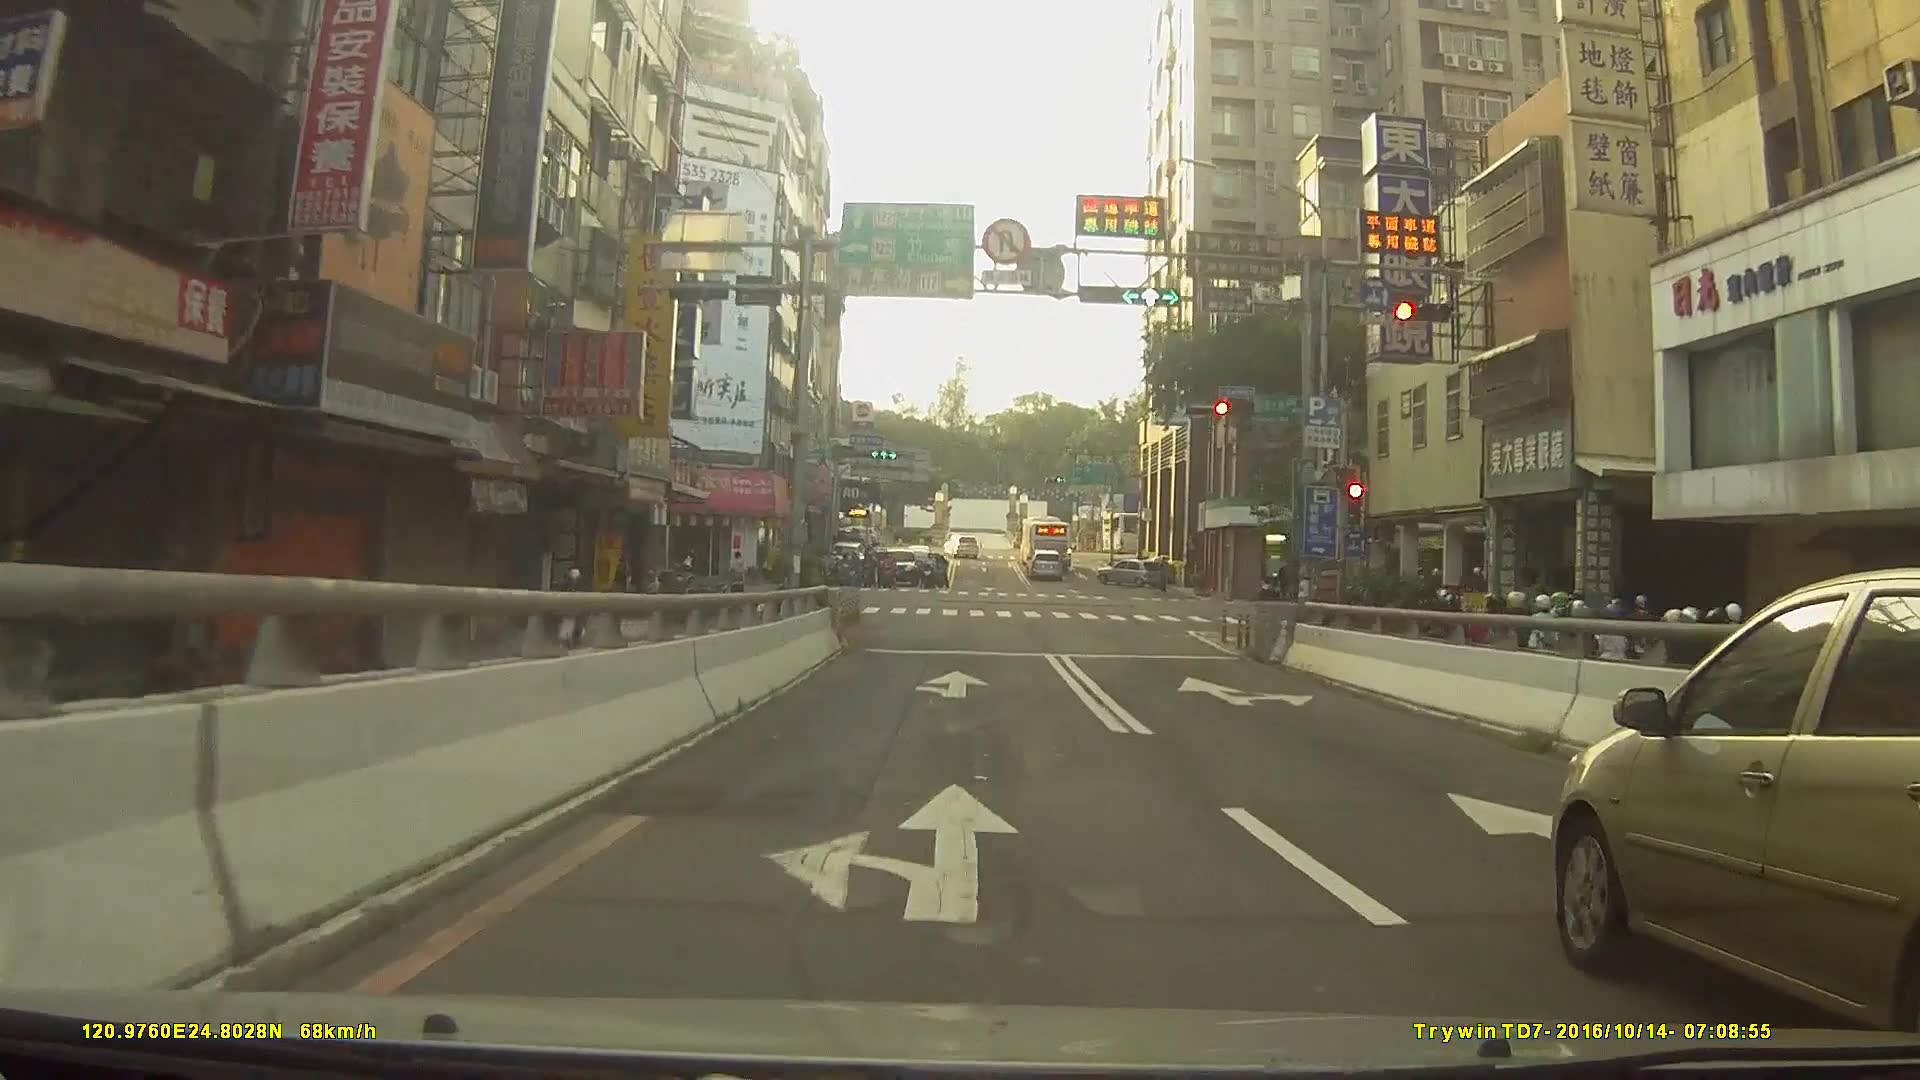pedestrian: (1275, 564, 1296, 604)
rider: (545, 569, 599, 667)
vehicle: (1553, 565, 1920, 1056), (1098, 509, 1176, 556), (1097, 558, 1171, 591), (1025, 519, 1073, 567), (878, 548, 921, 584), (1030, 548, 1067, 581), (939, 531, 978, 559)
